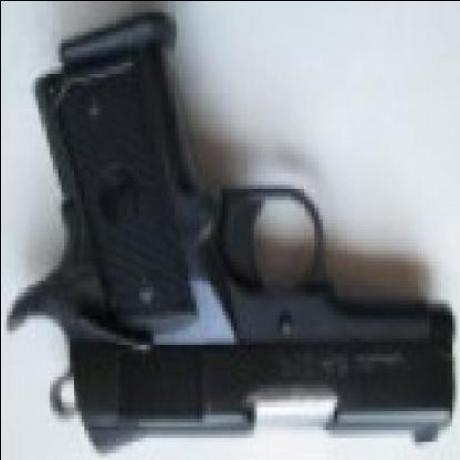weapon: (1, 8, 460, 454)
